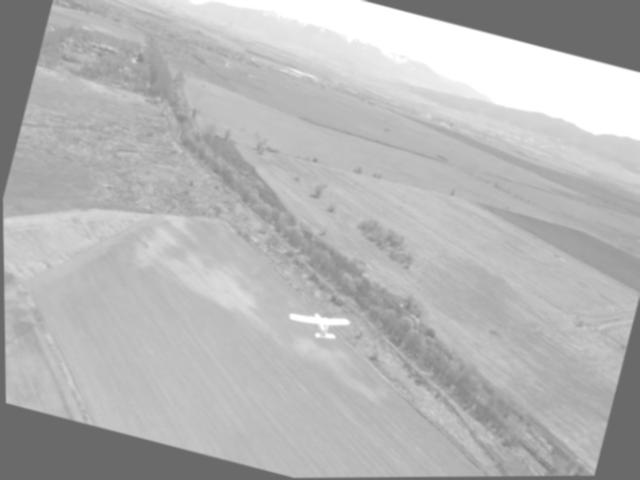hedef: (279, 300, 351, 354)
